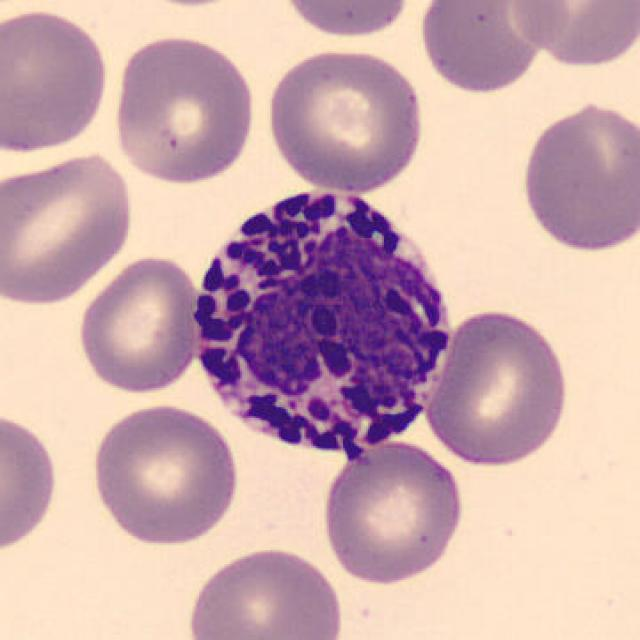Basophil: (178, 169, 468, 476)
RBC: (263, 44, 429, 196), (422, 305, 574, 469), (85, 398, 244, 548), (108, 32, 260, 187), (318, 436, 469, 587), (0, 146, 139, 308), (73, 252, 206, 397), (516, 99, 638, 257), (0, 3, 114, 158), (182, 541, 348, 640), (414, 0, 556, 97), (0, 405, 62, 559), (512, 0, 640, 71), (274, 0, 414, 41), (510, 0, 574, 56)
